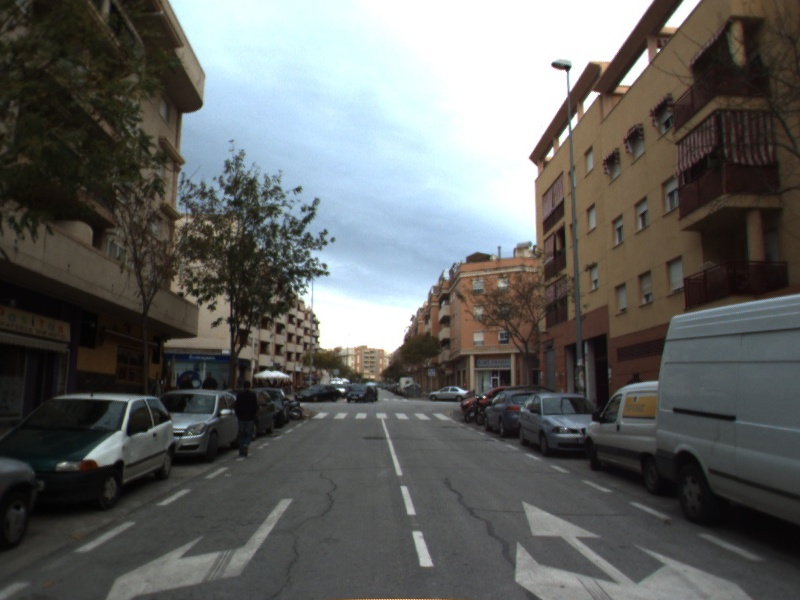STRAIGHT_LEFT_RIGHT: (513, 496, 756, 600)
